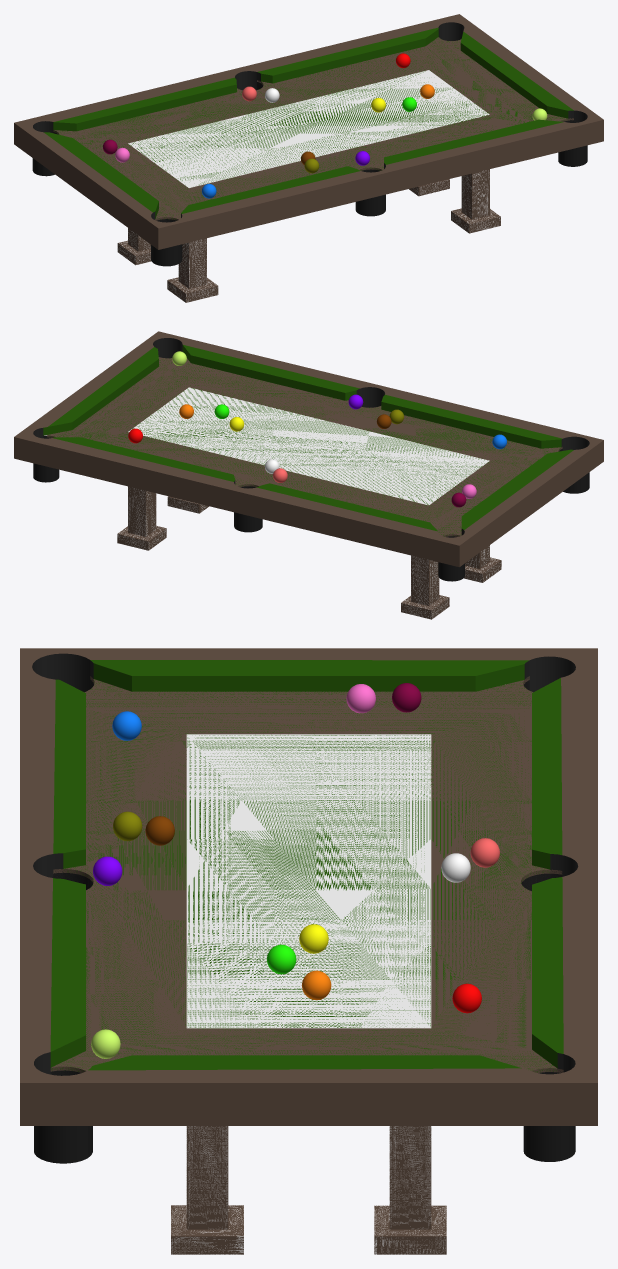
File: PoolTable.dae
3 views of the same model, one above another, from view 1: azimuth 30°, elevation 25°; view 2: azimuth 150°, elevation 25°; view 3: azimuth 270°, elevation 25° (orthographic). The views are drawn at different scales.
Visible parts, largest first — view 1: SketchUp (×18); view 2: SketchUp (×19); view 3: SketchUp (×16).
Boxes of the visible parts, x1,y1,x2,y2 form: SketchUp (×18): (14, 14, 603, 302); SketchUp (×19): (14, 331, 603, 619); SketchUp (×16): (20, 648, 597, 1254).
Size of the model in its own units: 300 by 169 by 79.38.
